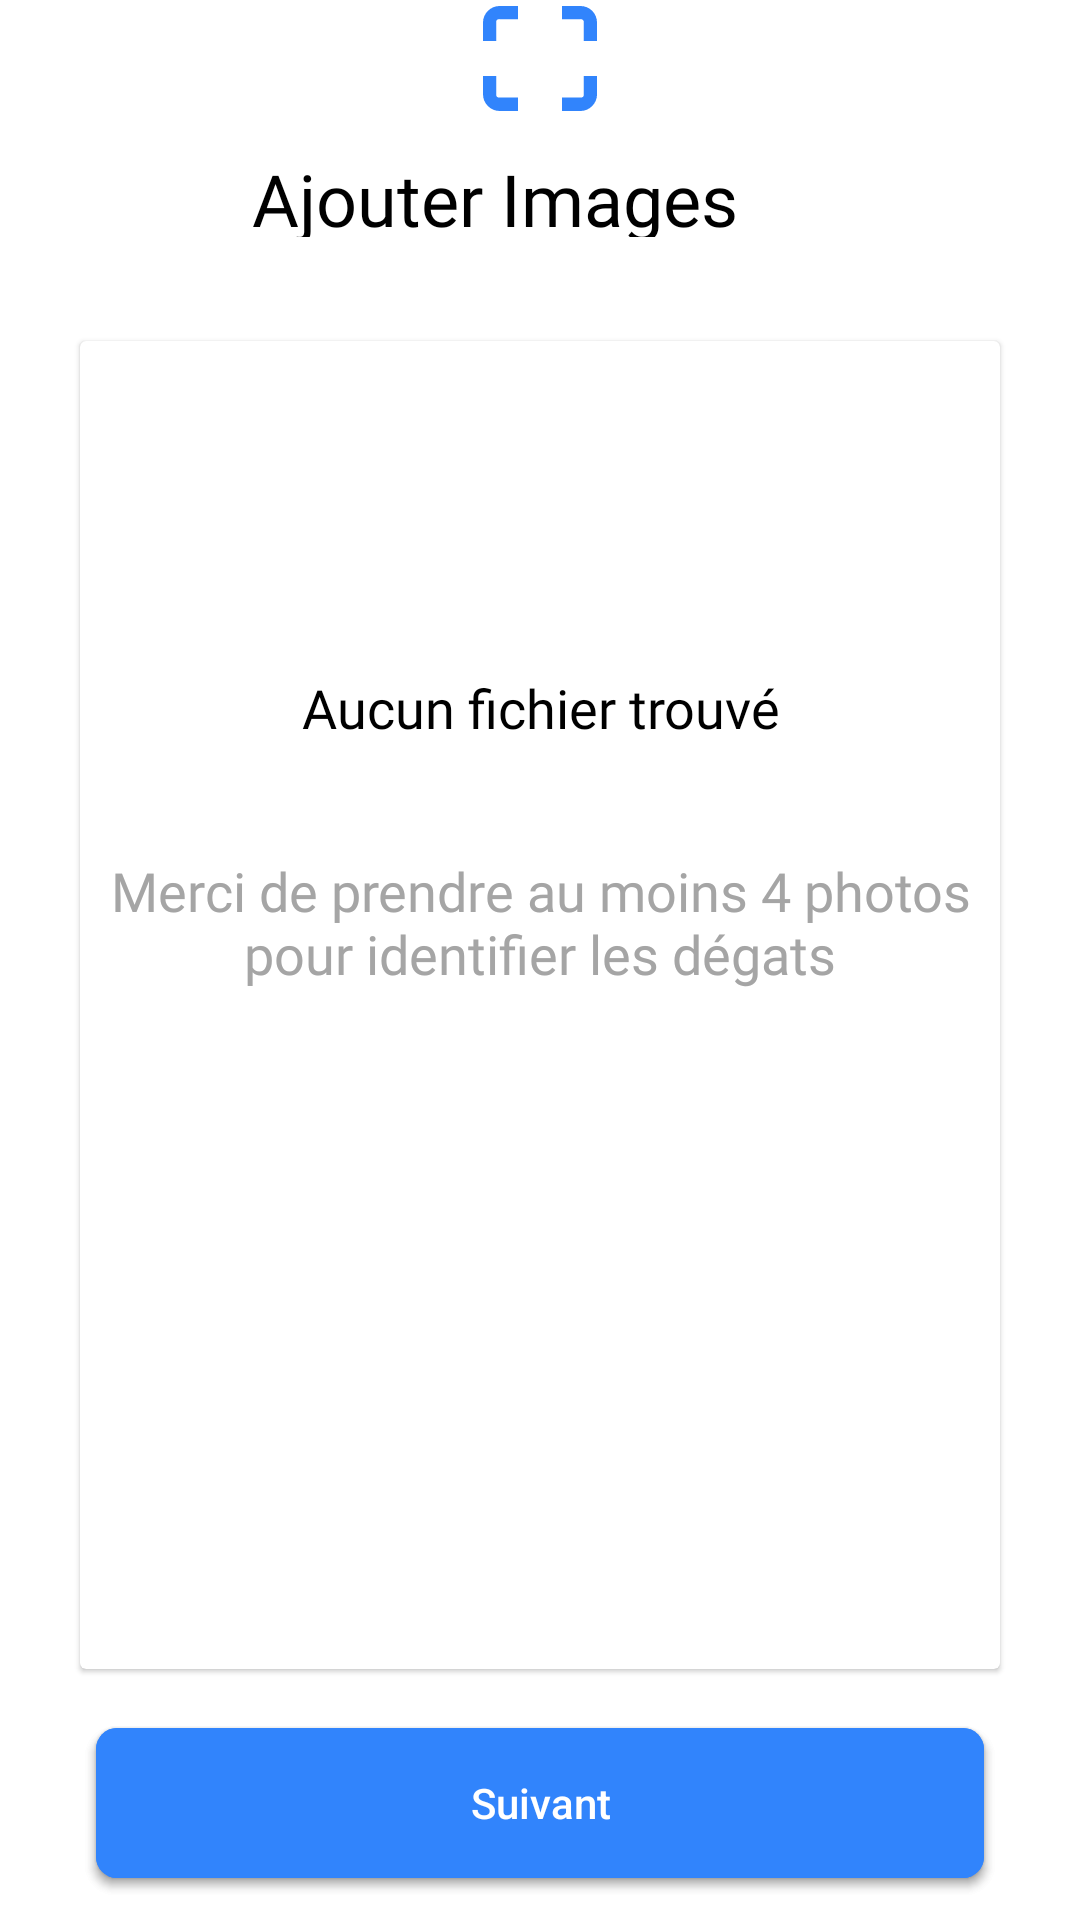

Screen size 1080px x 1920px. Icon name, then its center in pixels as (x,y):
iscanner: (540,58)
